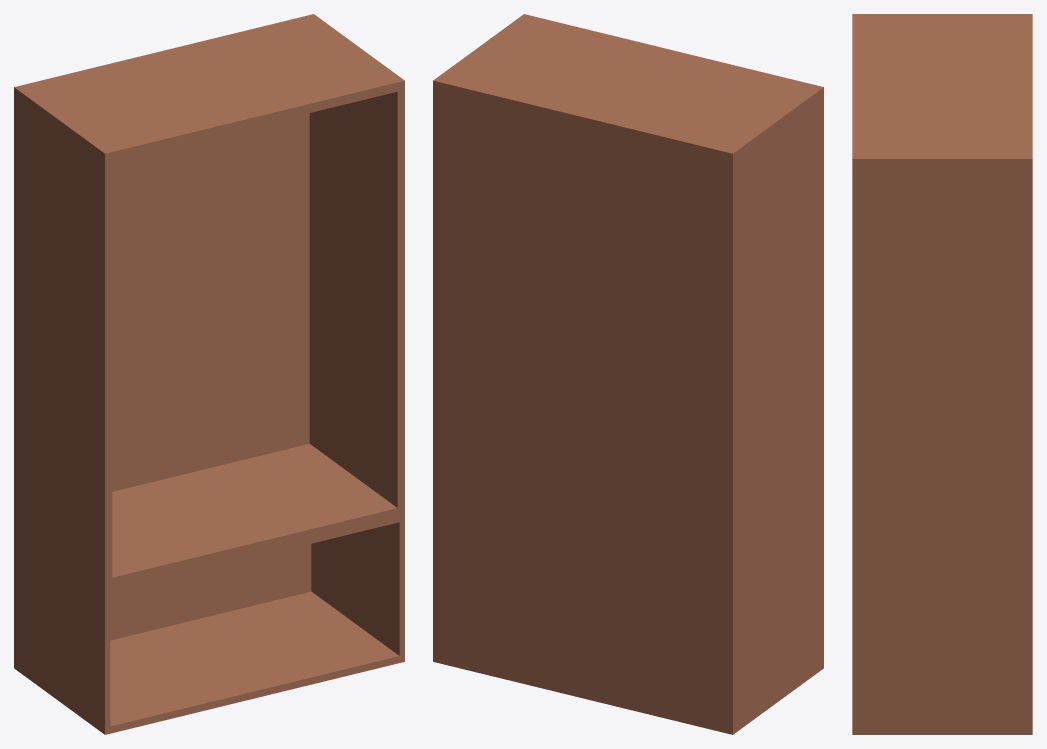
File: шкаф коридор.fbx
3 views of the same model, side by side, from view 1: azimuth 30°, elevation 25°; view 2: azimuth 150°, elevation 25°; view 3: azimuth 270°, elevation 25° (orthographic).
Parts seen in each view (by area): view 1: Cube.058; view 2: Cube.058; view 3: Cube.058.
Boxes of the visible parts, left/top/right/bottom form: Cube.058: left=14, top=14, right=404, bottom=734; Cube.058: left=433, top=14, right=823, bottom=734; Cube.058: left=852, top=14, right=1032, bottom=734.
Size of the model in its own units: 1411 by 2613 by 742.
